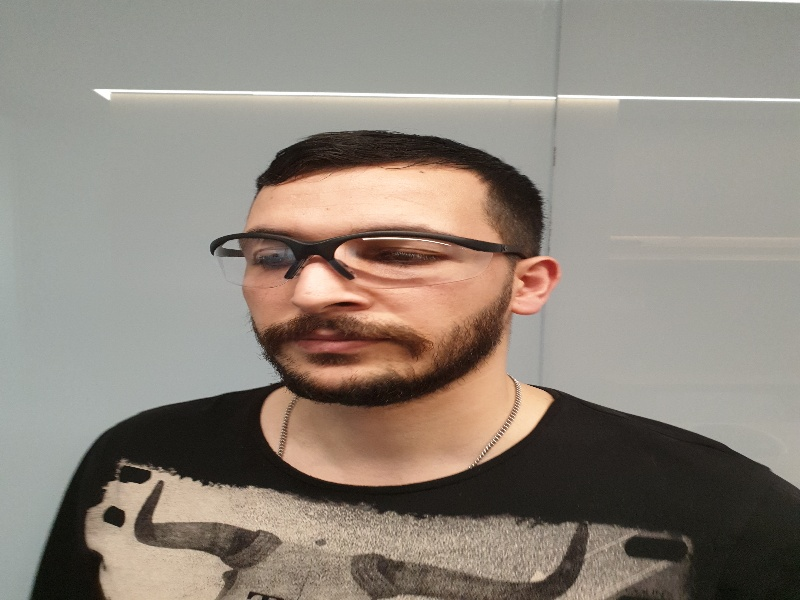Gozluk: (208, 229, 528, 282)
